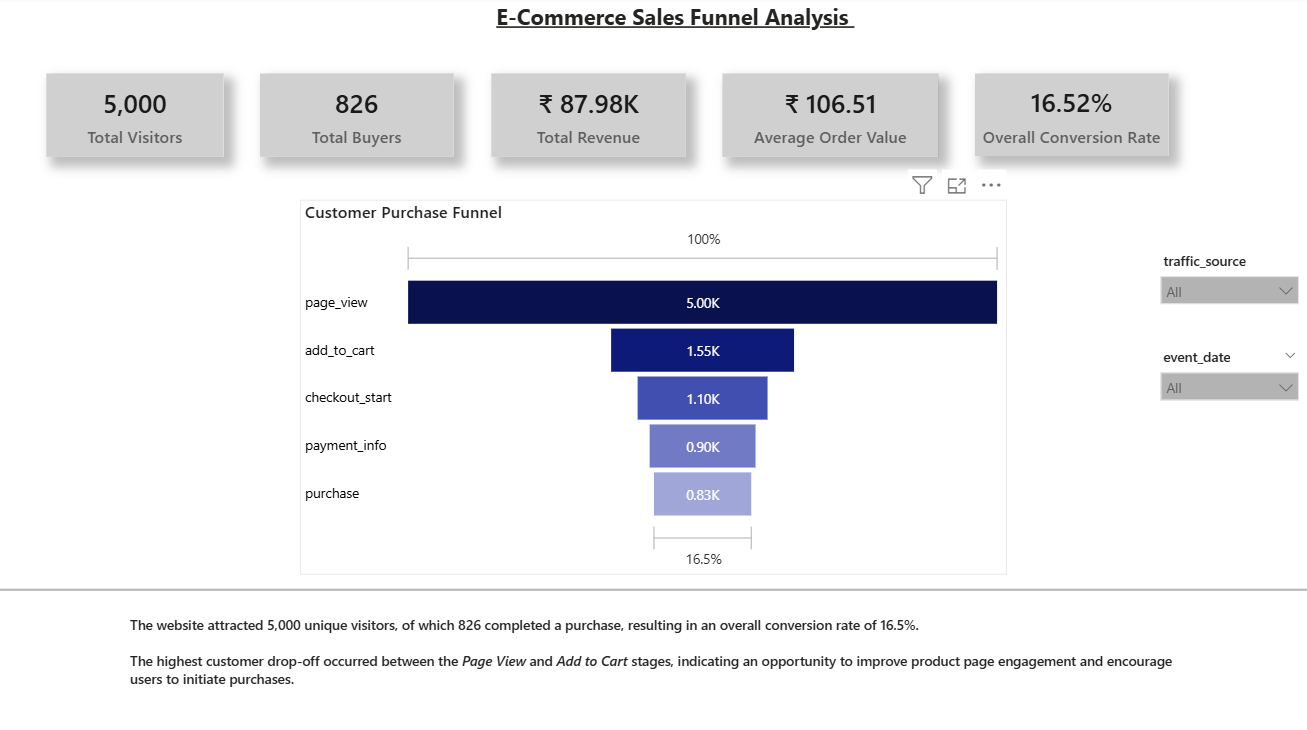

The dashboard page shown, as its layout file describes it:
{"tool":"powerbi","page":{"name":"Overview","canvas":[1280,720],"ordinal":0},"visuals":[{"type":"card","fields":{"Values":["user_events.Total Visitors"]},"box":[45.2,75.8,173.6,81.9],"z":0},{"type":"card","fields":{"Values":["user_events.Total Buyers"]},"box":[254.7,75.8,189.5,81.9],"z":1000},{"type":"card","fields":{"Values":["user_events.Total Revenue"]},"box":[480,75.8,190.8,81.9],"z":2000},{"type":"card","fields":{"Values":["user_events.Average Order Value"]},"box":[706.5,75.8,211.6,81.9],"z":3000},{"type":"card","fields":{"Values":["user_events.Overall Conversion Rate"]},"box":[953.8,75.8,189.5,80.7],"z":4000},{"type":"funnel","title":"Customer Purchase Funnel","fields":{"Category":["user_events.event_type"],"Y":["Count(user_events.user_id)"]},"box":[293.5,199.3,692.1,366.8],"z":5000},{"type":"slicer","fields":{"Values":["user_events.traffic_source"]},"box":[1125,244.6,155.3,66],"z":6000},{"type":"slicer","fields":{"Values":["user_events.event_date"]},"box":[1125,338.7,155.3,64.8],"z":7000},{"type":"textbox","box":[480.6,0,375.4,66],"z":8000},{"type":"textbox","box":[122.3,583.3,1054.1,128.4],"z":9000},{"type":"shape","box":[0,566.2,1280.3,29.3],"z":10000}]}

Visuals, with their boxes in screenshot pixels (x1, y1, x2, y2), scaled from the page's 1280x720 canvas onto the 1307x730 screenshot:
card - user_events.Total Visitors: x1=46 y1=77 x2=223 y2=160
card - user_events.Total Buyers: x1=260 y1=77 x2=454 y2=160
card - user_events.Total Revenue: x1=490 y1=77 x2=685 y2=160
card - user_events.Average Order Value: x1=721 y1=77 x2=937 y2=160
card - user_events.Overall Conversion Rate: x1=974 y1=77 x2=1167 y2=159
"Customer Purchase Funnel" funnel: x1=300 y1=202 x2=1006 y2=574
slicer - user_events.traffic_source: x1=1149 y1=248 x2=1306 y2=315
slicer - user_events.event_date: x1=1149 y1=343 x2=1306 y2=409
textbox: x1=491 y1=0 x2=874 y2=67
textbox: x1=125 y1=591 x2=1201 y2=722
shape: x1=0 y1=574 x2=1306 y2=604
